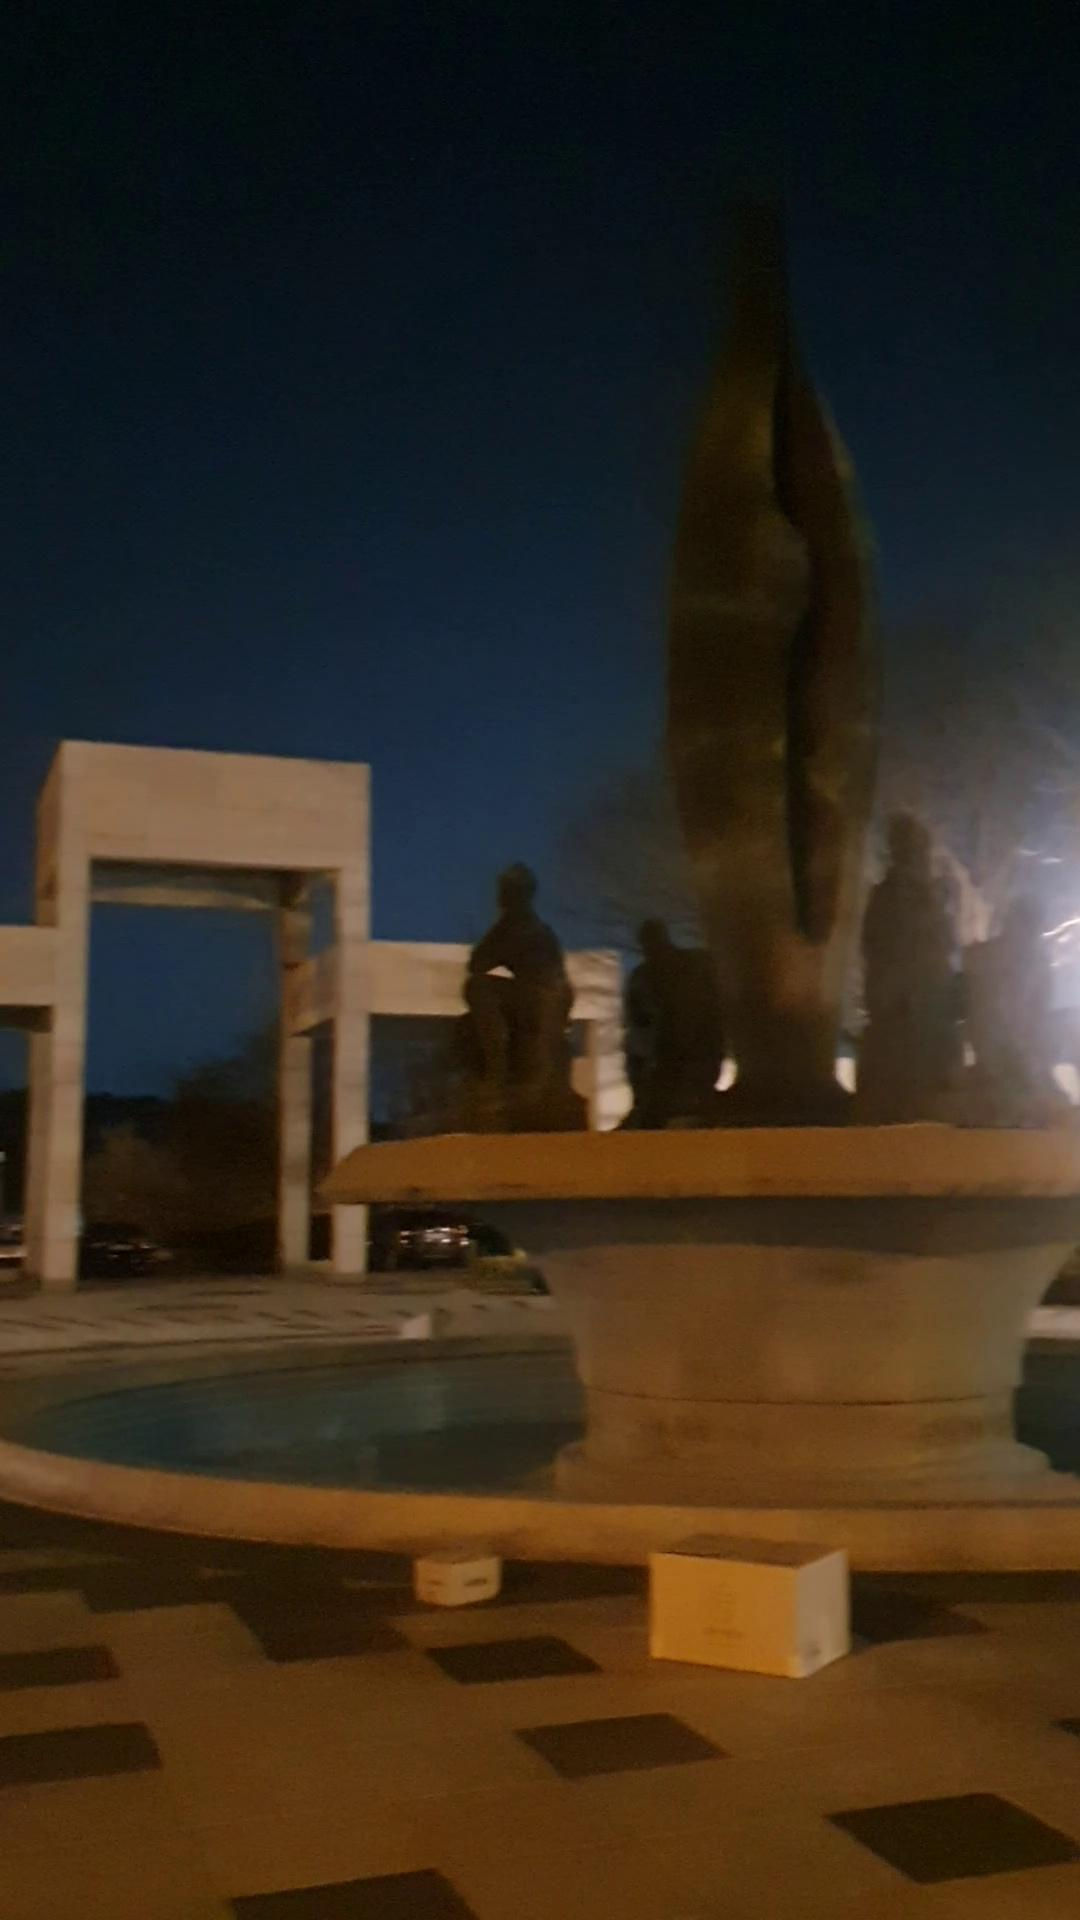Box: (628, 1530, 864, 1685), (411, 1538, 510, 1615)
